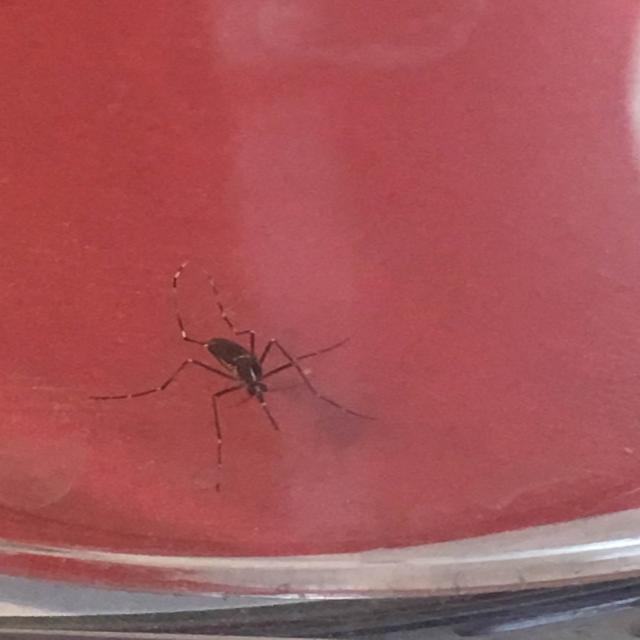albopictus: (94, 250, 375, 484)
